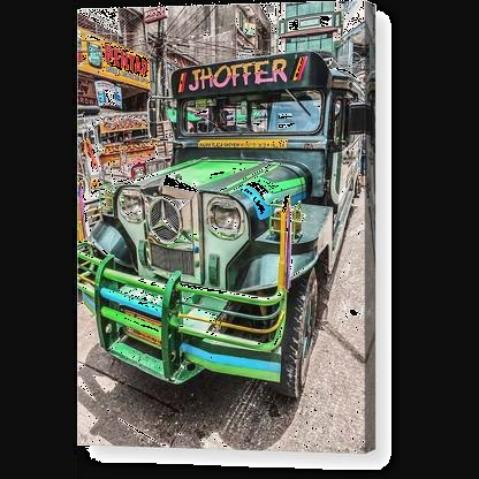jeepney: (79, 44, 365, 421)
